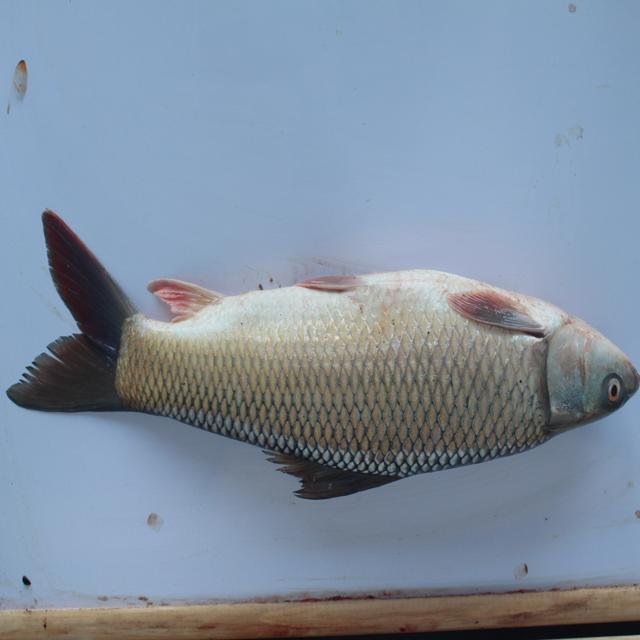Mori: (9, 199, 640, 510)
